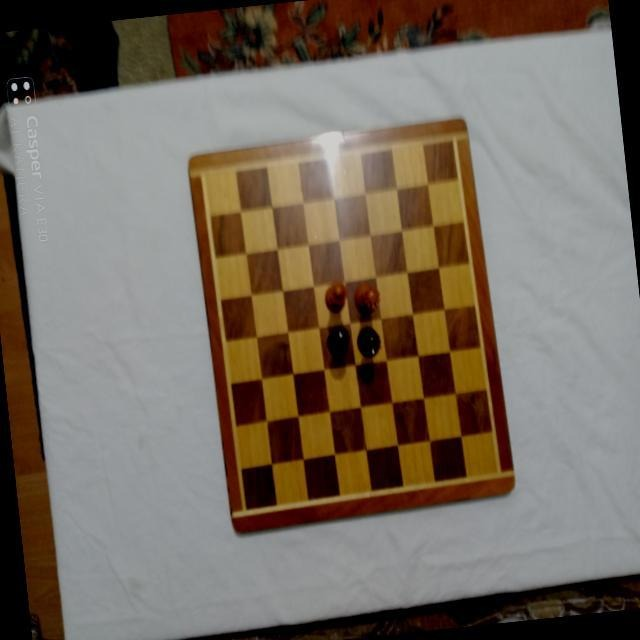black-king: (324, 325, 351, 359)
black-queen: (354, 325, 381, 358)
white-king: (321, 279, 347, 313)
white-queen: (352, 279, 381, 316)
